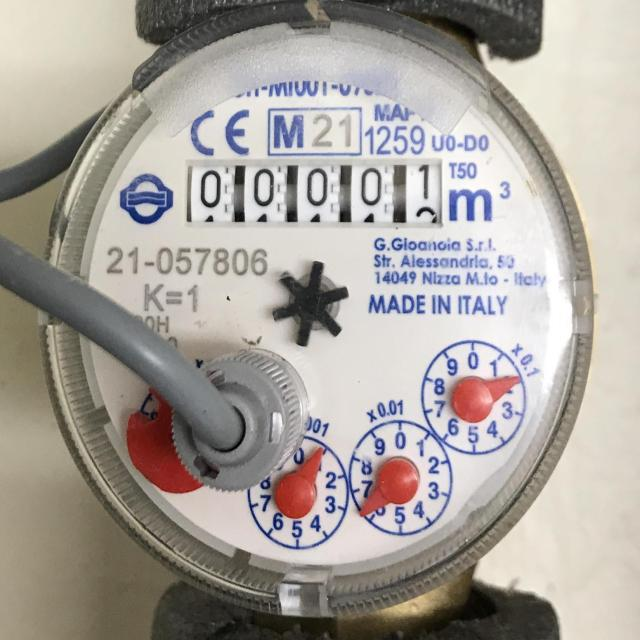gaz_meter: (75, 25, 581, 576)
indication: (187, 159, 443, 225)
